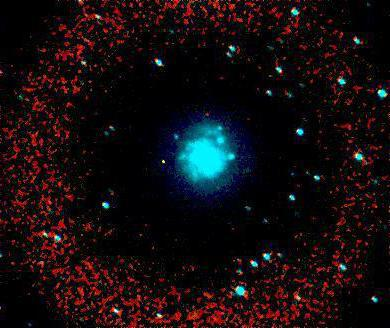star: (150, 146, 180, 176)
